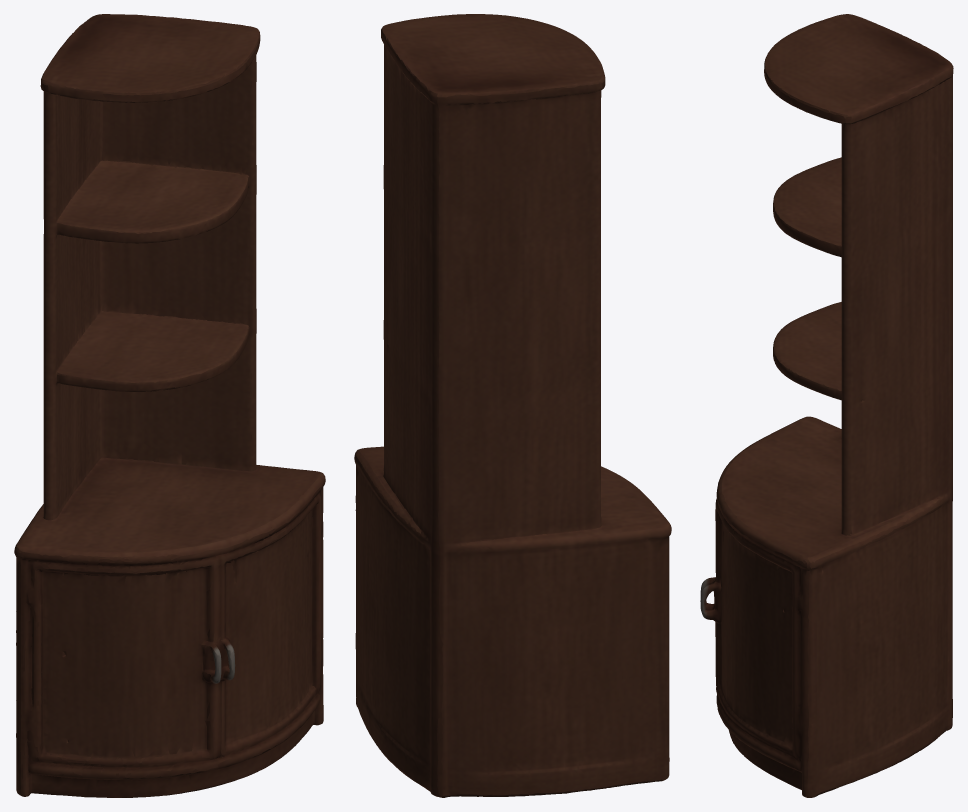
Rendered from item_385ce9ad.glb.
3 renders of one model, left to right at view 1: azimuth 30°, elevation 25°; view 2: azimuth 150°, elevation 25°; view 3: azimuth 270°, elevation 25°, orthographic. The views are drawn at different scales.
Parts seen in each view (by area): view 1: world; view 2: world; view 3: world.
Boxes of the visible parts, box(x1,y1,x2,y2) form: world: box(14, 14, 325, 797); world: box(354, 14, 671, 797); world: box(700, 14, 953, 797).
Bounding box in the file's own units: 0.8887 × 1.9 × 0.6558.
1 material, 1 textured.
